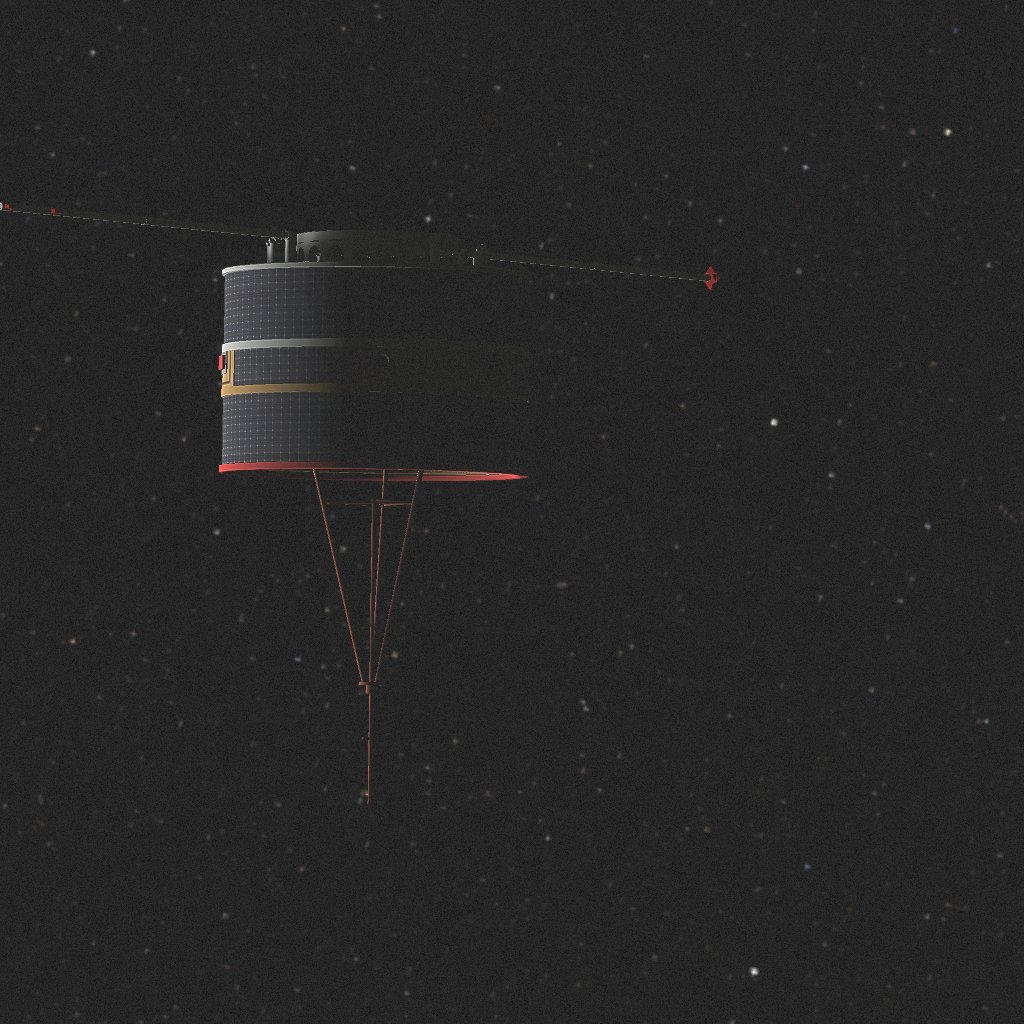double_star: (0, 202, 722, 803)
